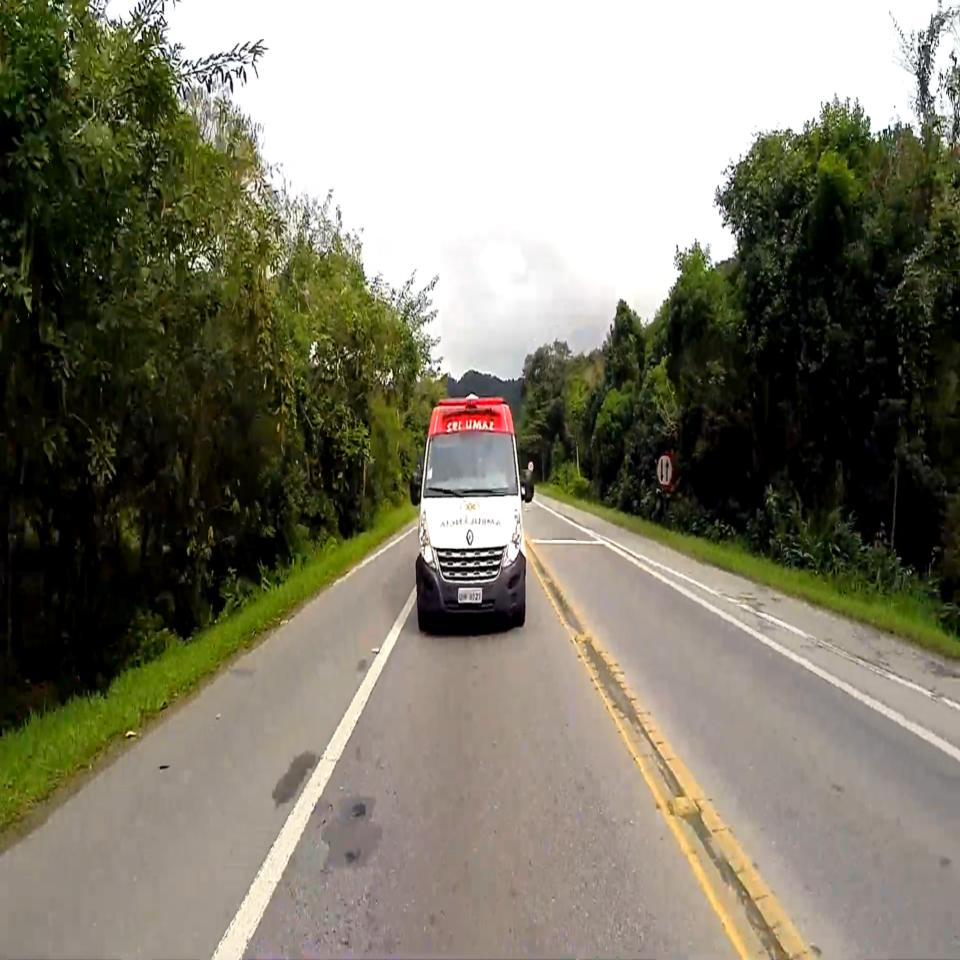bombeiro: (409, 392, 536, 636)
